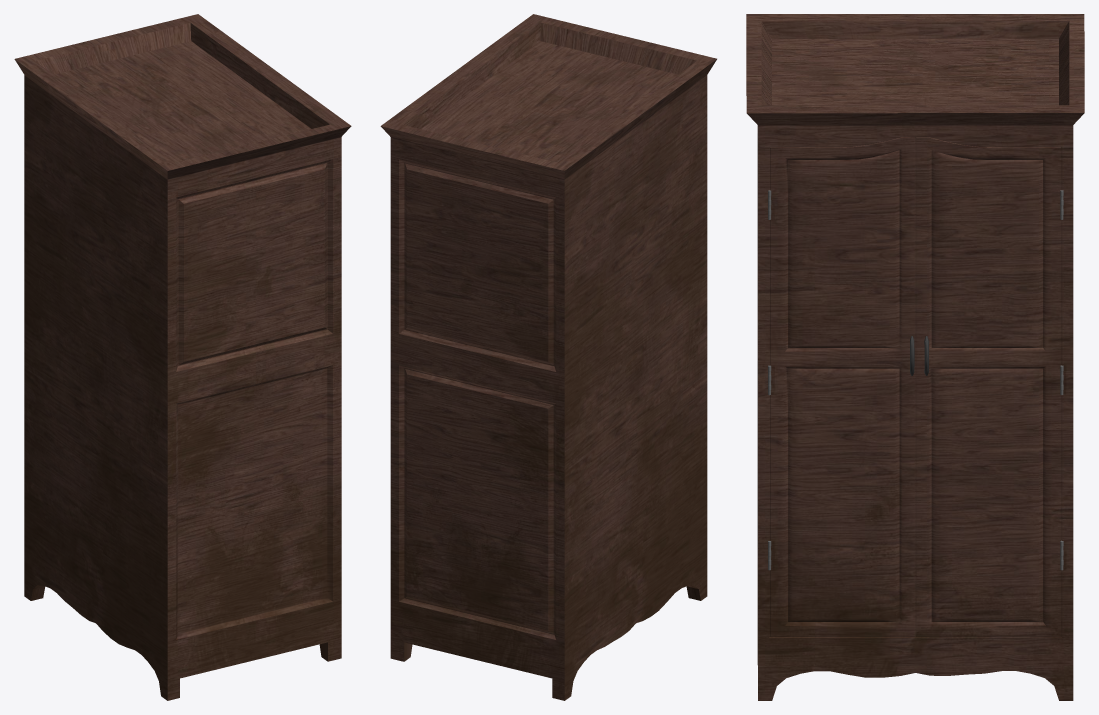
3 views of the same model, side by side, from view 1: azimuth 30°, elevation 25°; view 2: azimuth 150°, elevation 25°; view 3: azimuth 270°, elevation 25° (orthographic). The views are drawn at different scales.
Parts seen in each view (by area): view 1: body; view 2: body; view 3: body.
Boxes of the visible parts, x1=… form: body: x1=14, y1=14, x2=351, y2=700; body: x1=380, y1=14, x2=716, y2=700; body: x1=746, y1=14, x2=1084, y2=700.
Size of the model in its own units: 0.7641 by 2.06 by 1.07.
5 materials, 3 textured.
